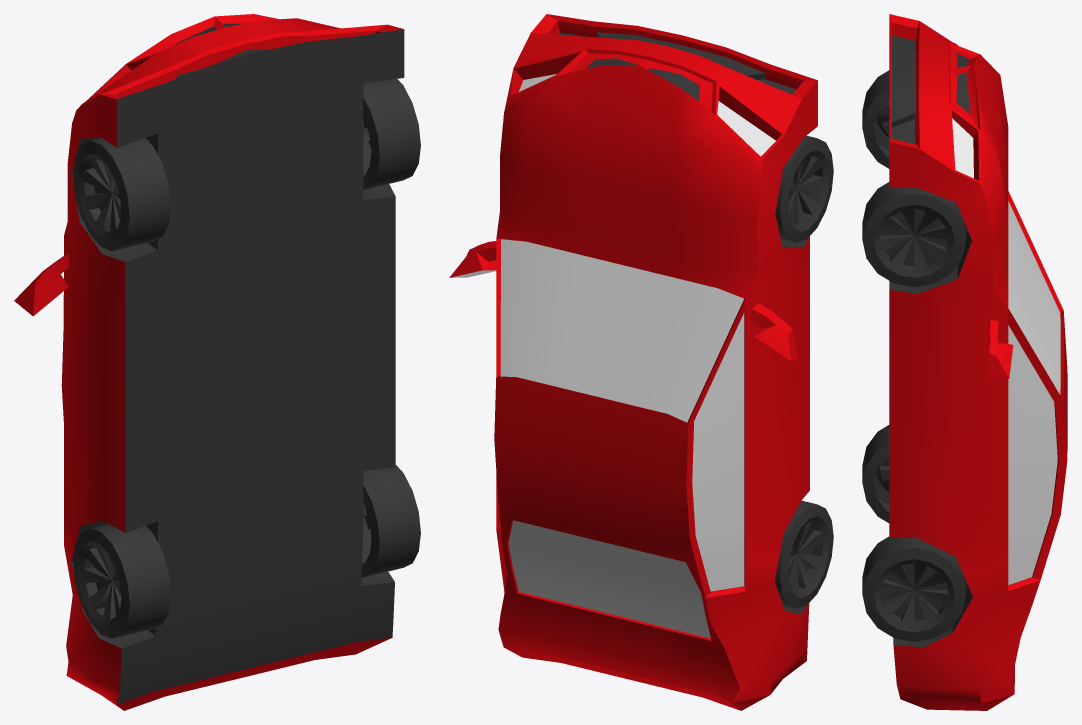
The model's file is car.fbx.
3 views of the same model, side by side, from view 1: azimuth 30°, elevation 25°; view 2: azimuth 150°, elevation 25°; view 3: azimuth 270°, elevation 25° (orthographic). The views are drawn at different scales.
Visible parts, largest first — view 1: Cube, Cube.002, Cube.004, Cube.003, Cube.005; view 2: Cube, Cube.002, Cube.004; view 3: Cube, Cube.003, Cube.005, Cube.004, Cube.002.
Boxes of the visible parts, x1,y1,x2,y2 form: Cube: [14, 14, 404, 710]; Cube.002: [73, 523, 170, 638]; Cube.004: [73, 138, 170, 251]; Cube.003: [361, 465, 420, 577]; Cube.005: [363, 79, 420, 189]; Cube: [449, 14, 817, 710]; Cube.002: [775, 500, 833, 608]; Cube.004: [775, 135, 833, 242]; Cube: [889, 14, 1067, 710]; Cube.003: [862, 536, 966, 641]; Cube.005: [862, 182, 966, 287]; Cube.004: [862, 70, 889, 168]; Cube.002: [862, 425, 889, 522].
Bounding box in the file's own units: 258 × 442 × 138.
